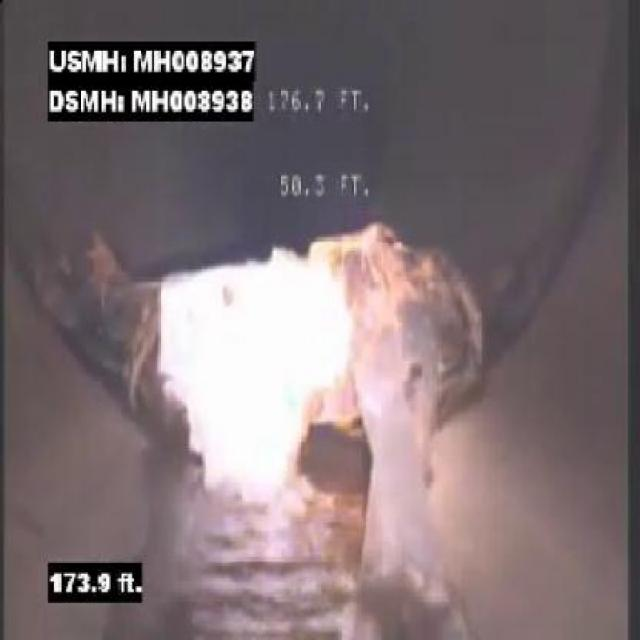Obstacle: (68, 208, 546, 512)
